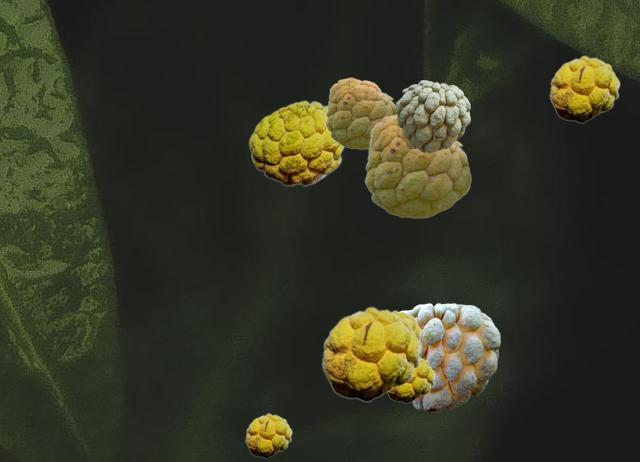atis: (364, 114, 470, 217), (400, 303, 499, 411), (321, 306, 421, 401), (248, 100, 344, 185), (395, 80, 469, 151), (325, 77, 394, 148), (549, 55, 619, 122), (386, 357, 434, 402), (245, 413, 291, 457), (392, 310, 420, 337)
